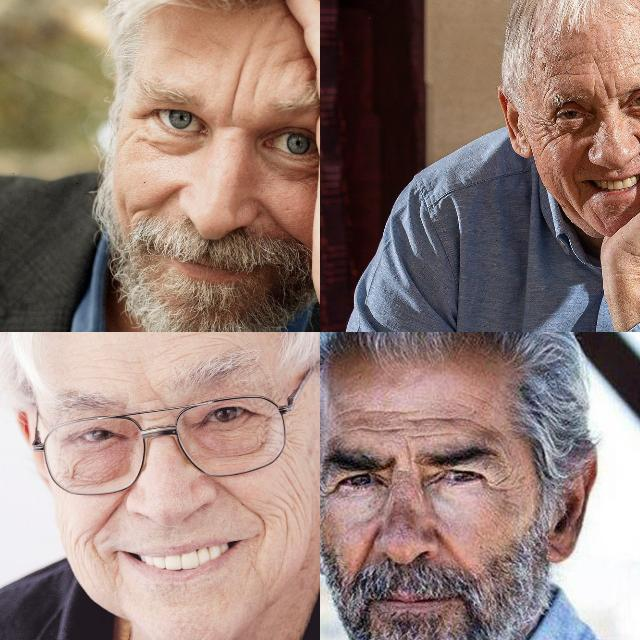chin: (592, 210, 608, 230)
crows_feet: (256, 407, 274, 451), (486, 472, 516, 494), (539, 116, 561, 138), (128, 104, 146, 128), (320, 471, 331, 503)
forehead: (413, 410, 482, 440), (164, 332, 234, 357), (347, 408, 405, 438), (546, 68, 578, 80), (590, 55, 606, 75), (562, 50, 584, 64), (624, 51, 640, 70)
frown_line: (226, 58, 242, 124), (140, 412, 172, 428), (402, 442, 418, 472), (248, 76, 262, 100), (601, 80, 615, 104)
gummy_smile: (208, 470, 254, 510), (94, 488, 126, 536), (138, 184, 176, 222), (350, 523, 380, 571), (262, 202, 304, 236), (435, 530, 461, 566), (635, 134, 640, 159)
masseter: (275, 455, 307, 533), (70, 529, 102, 567)
sad_smile: (570, 173, 584, 199)
